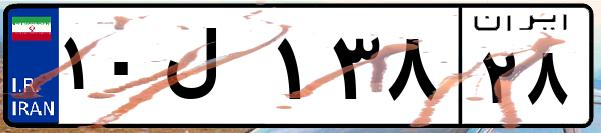0: (110, 28, 158, 98)
1: (270, 28, 330, 110), (57, 26, 110, 100)
2: (475, 38, 525, 113)
3: (330, 28, 385, 110)
8: (385, 28, 445, 110), (525, 38, 570, 115)
ل: (158, 20, 270, 120)
